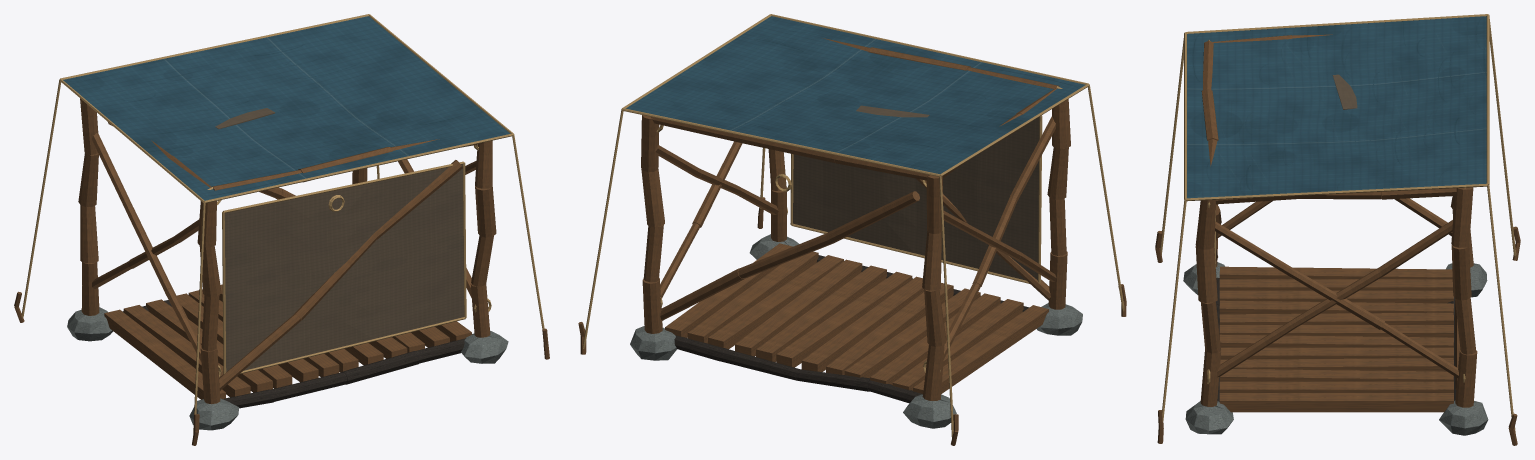
The model's file is cs-005_shelter_repaired_reinforced.obj.
3 renders of one model, left to right at view 1: azimuth 30°, elevation 25°; view 2: azimuth 150°, elevation 25°; view 3: azimuth 270°, elevation 25°, orthographic. The views are drawn at different scales.
Parts seen in each view (by area): view 1: cs-005_shelter_repaired_reinforced; view 2: cs-005_shelter_repaired_reinforced; view 3: cs-005_shelter_repaired_reinforced.
Boxes of the visible parts, bbox=[...] form: cs-005_shelter_repaired_reinforced: bbox=[14, 14, 549, 445]; cs-005_shelter_repaired_reinforced: bbox=[578, 14, 1126, 445]; cs-005_shelter_repaired_reinforced: bbox=[1155, 14, 1520, 445].
Size of the model in its own units: 2.49 by 1.65 by 2.03.
6 materials, 6 textured.
